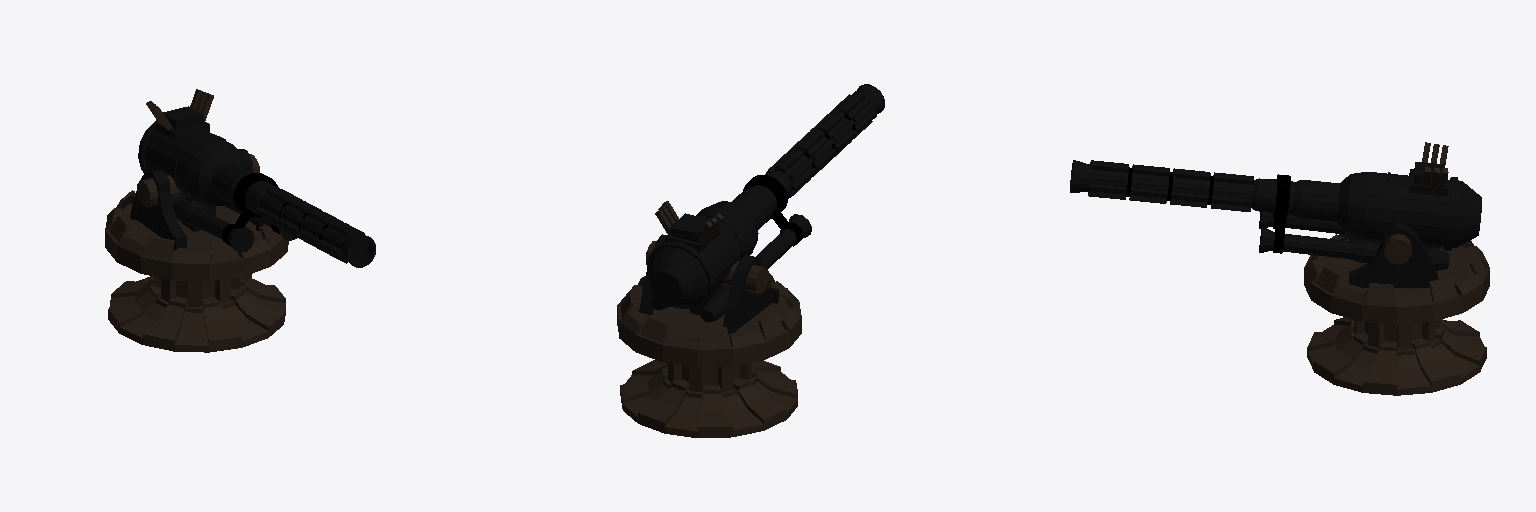
Rendered from cannon_mine.obj.
The picture shows the model from 3 angles: view 1: azimuth 30°, elevation 25°; view 2: azimuth 150°, elevation 25°; view 3: azimuth 270°, elevation 25°; orthographic projection.
Parts seen in each view (by area): view 1: Cylinder_Material.004, Cube_Material.001, Cylinder.001_Material.004, Plane_Material.001, Cylinder.002_Material.001, Cube.001_Material.001, Cylinder.003_Material.004, Cube_Material.002, Cube.002_Material.004; view 2: Cube_Material.001, Cylinder_Material.004, Cylinder.001_Material.004, Plane_Material.001, Cylinder.002_Material.001, Cube.001_Material.001, Cylinder.003_Material.004, Cube_Material.002, Cube.002_Material.004; view 3: Cube_Material.001, Cylinder_Material.004, Cylinder.001_Material.004, Cylinder.002_Material.001, Plane_Material.001, Cube_Material.002, Cube.002_Material.004, Cube.001_Material.001, Cylinder.003_Material.004.
Boxes of the visible parts, x1,y1,x2,y2 form: Cylinder_Material.004: [108, 274, 285, 352]; Cube_Material.001: [138, 120, 375, 267]; Cylinder.001_Material.004: [105, 190, 288, 281]; Plane_Material.001: [130, 149, 263, 250]; Cylinder.002_Material.001: [172, 198, 296, 252]; Cube.001_Material.001: [156, 106, 209, 139]; Cylinder.003_Material.004: [137, 154, 259, 207]; Cube_Material.002: [234, 173, 327, 239]; Cube.002_Material.004: [146, 89, 213, 130]; Cube_Material.001: [647, 84, 884, 315]; Cylinder_Material.004: [620, 360, 797, 437]; Cylinder.001_Material.004: [617, 273, 801, 366]; Plane_Material.001: [639, 234, 778, 333]; Cylinder.002_Material.001: [651, 214, 811, 322]; Cube.001_Material.001: [665, 213, 719, 251]; Cylinder.003_Material.004: [646, 241, 768, 293]; Cube_Material.002: [741, 114, 855, 257]; Cube.002_Material.004: [655, 201, 723, 242]; Cube_Material.001: [1070, 160, 1481, 250]; Cylinder_Material.004: [1307, 317, 1486, 395]; Cylinder.001_Material.004: [1304, 234, 1489, 324]; Cylinder.002_Material.001: [1259, 212, 1449, 270]; Plane_Material.001: [1349, 222, 1440, 287]; Cube_Material.002: [1126, 167, 1290, 218]; Cube.002_Material.004: [1420, 142, 1448, 187]; Cube.001_Material.001: [1409, 162, 1447, 195]; Cylinder.003_Material.004: [1384, 234, 1411, 264].
Size of the model in its own units: 20.48 by 24.76 by 46.28.